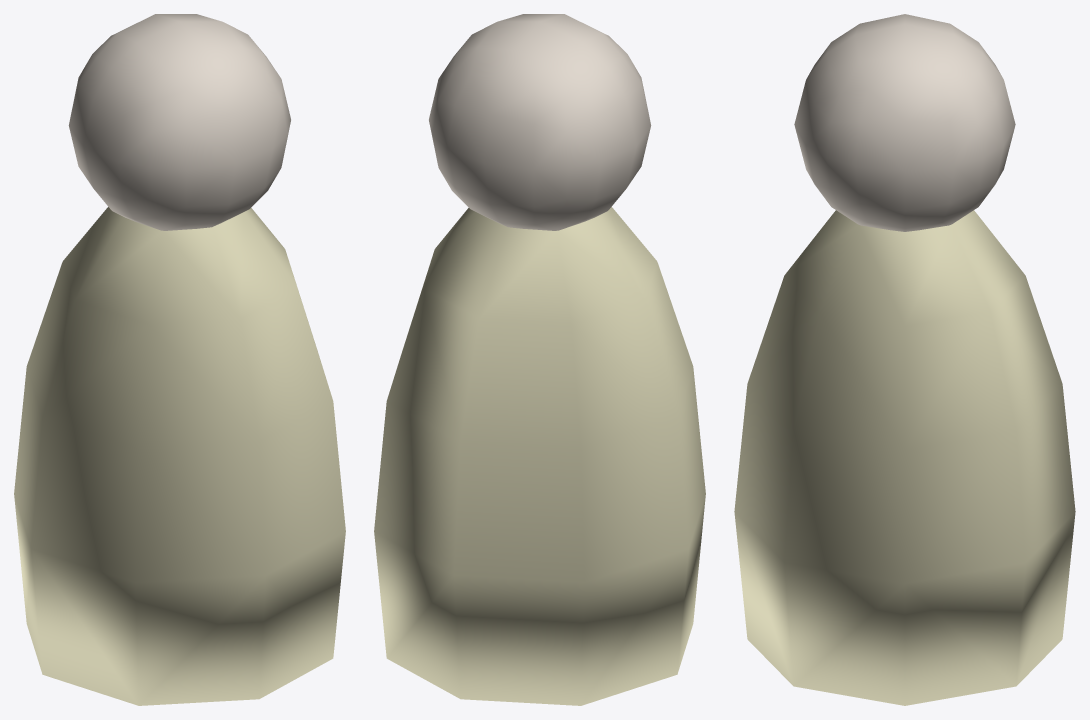
Rendered from Person_A.fbx.
3 views of the same model, side by side, from view 1: azimuth 30°, elevation 25°; view 2: azimuth 150°, elevation 25°; view 3: azimuth 270°, elevation 25° (orthographic).
Visible parts, largest first — view 1: mesh_person; view 2: mesh_person; view 3: mesh_person.
Boxes of the visible parts, x1,y1,x2,y2 form: mesh_person: [14, 14, 345, 705]; mesh_person: [374, 14, 705, 705]; mesh_person: [734, 14, 1075, 705].
Size of the model in its own units: 0.35 by 0.6963 by 0.35.
